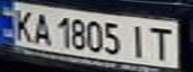0: (84, 18, 106, 54)
1: (51, 14, 72, 48)
5: (103, 19, 127, 56)
8: (66, 16, 87, 52)
A: (27, 10, 54, 46)
I: (124, 21, 151, 59)
K: (6, 6, 39, 43)
T: (145, 24, 178, 61)
